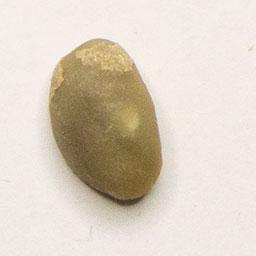longberry: (46, 33, 165, 208)
